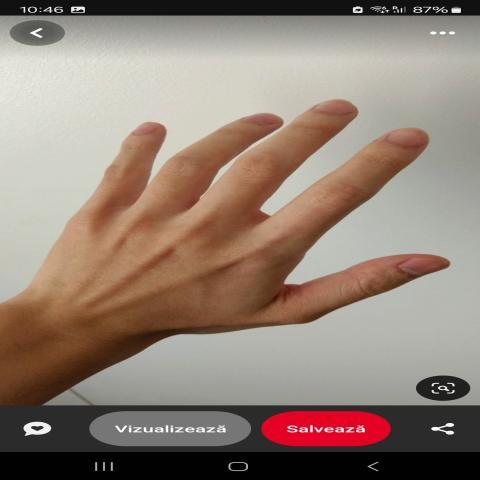Hands: (12, 54, 463, 362)
